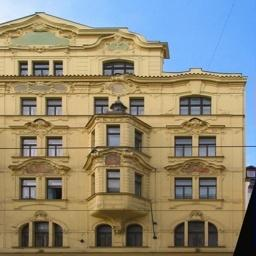building: (0, 10, 250, 256)
